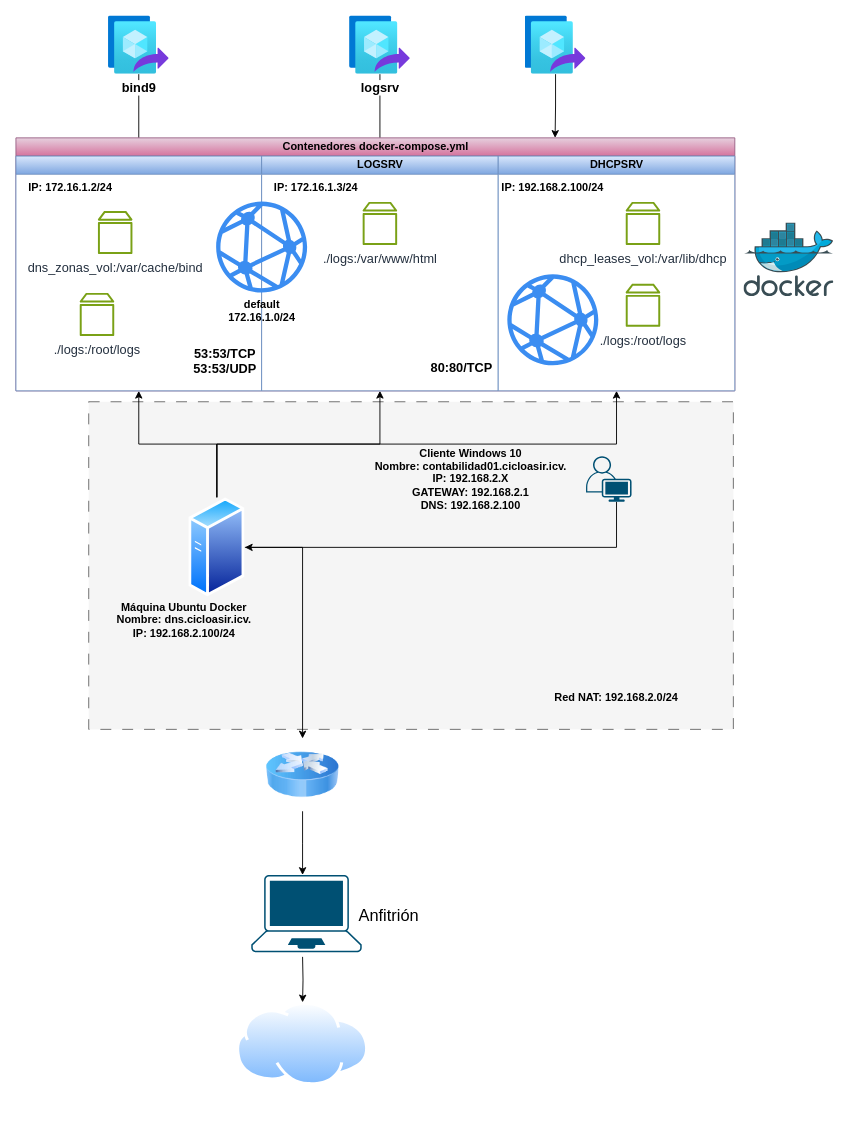
The diagram is 850 pixels wide and 1123 high, and some of its shapes have lost their labels. The box of each missing label's shape, as (x1, y1, x2, y2) in pixels:
DNSSRV: (15, 155, 262, 391)
host: (507, 274, 598, 365)
INTERNET: (236, 1002, 368, 1085)
isc-dhcp-server: (525, 15, 586, 74)
Router Virtualbox IP: 192.168.2.1/24: (266, 738, 339, 811)
